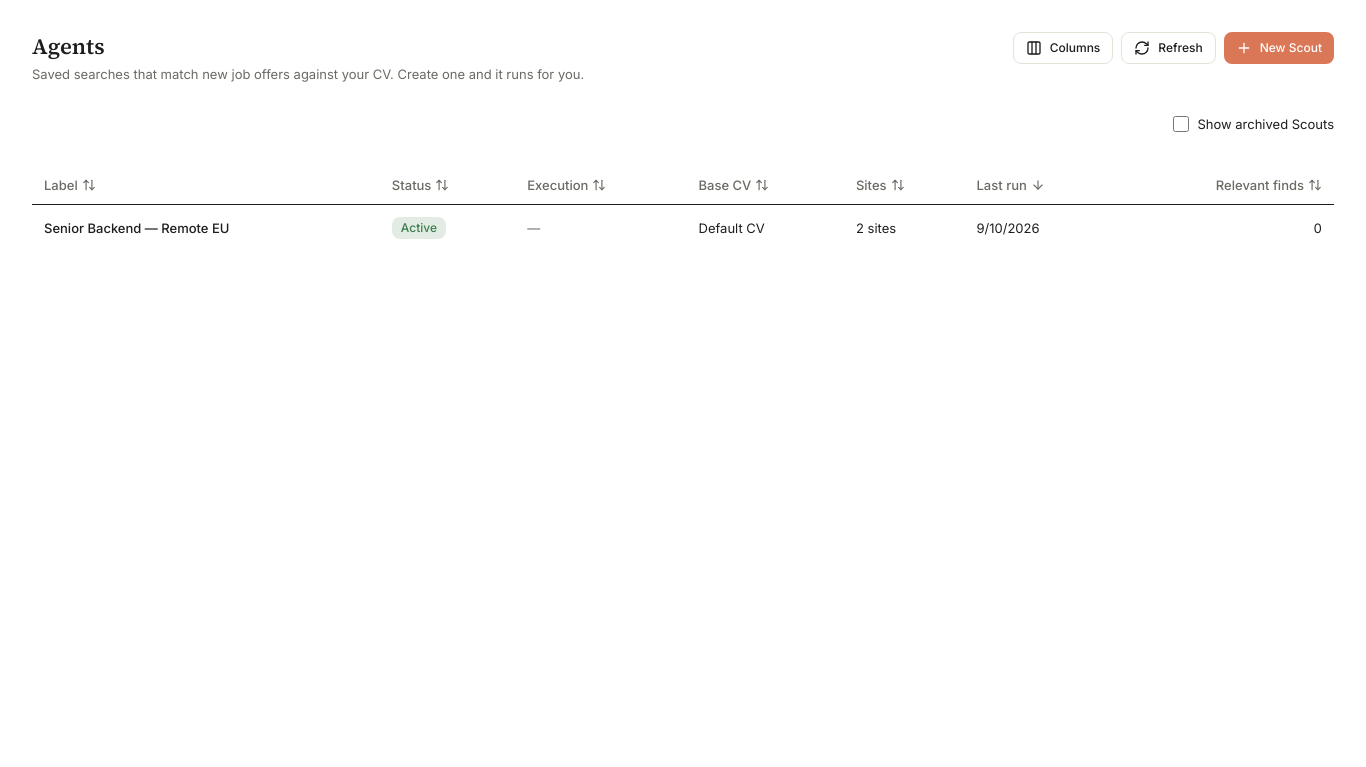
Scenario: ScoutsPage — list › opens the Scout panel on row click, showing status, base CV, full site names, threshold, filters, and last run (issue #91)
Click the text "Senior Backend — Remote EU" at (206, 228), box left=32, top=205, right=380, bottom=251
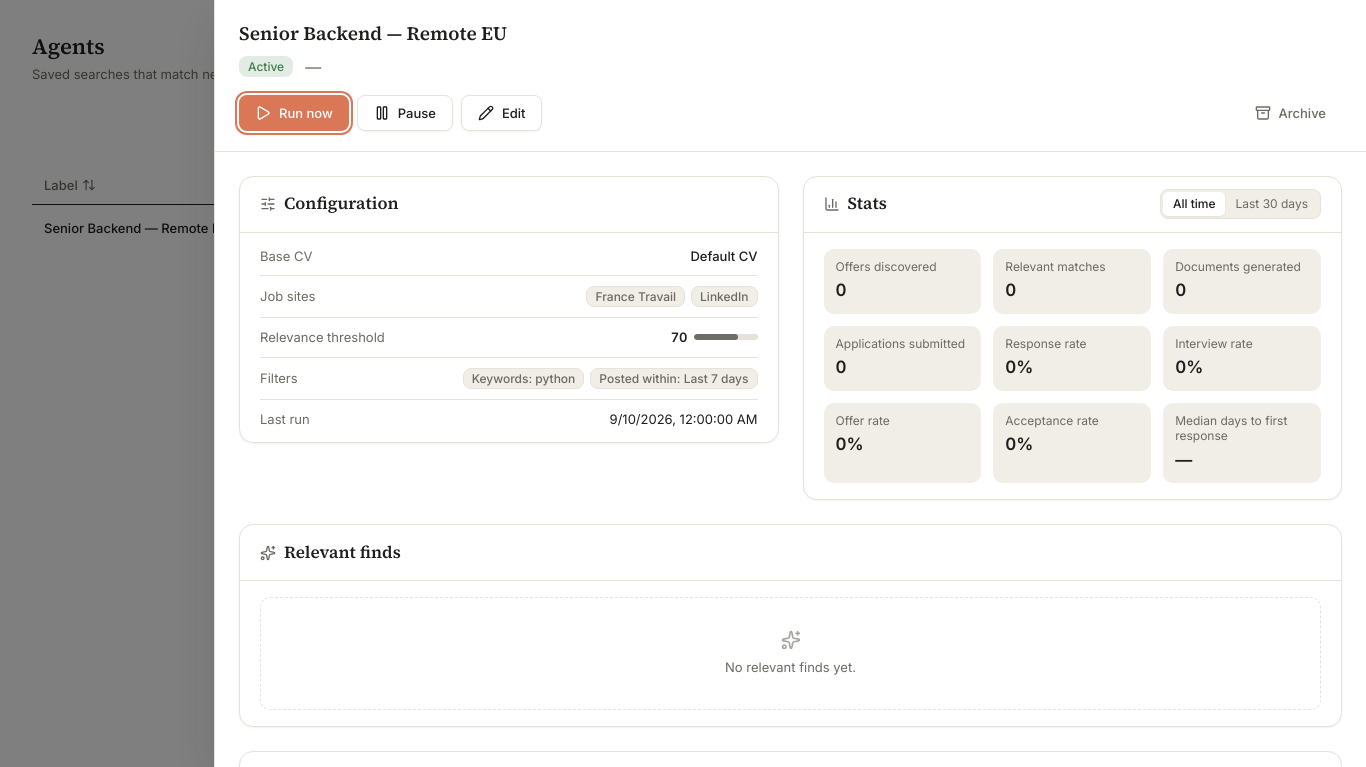
Now the heading "Senior Backend — Remote EU" is shown, box left=239, top=20, right=507, bottom=46
Now the heading "Configuration" is shown, box left=284, top=191, right=399, bottom=217
Now the text "Active" is shown, box left=239, top=56, right=293, bottom=77
